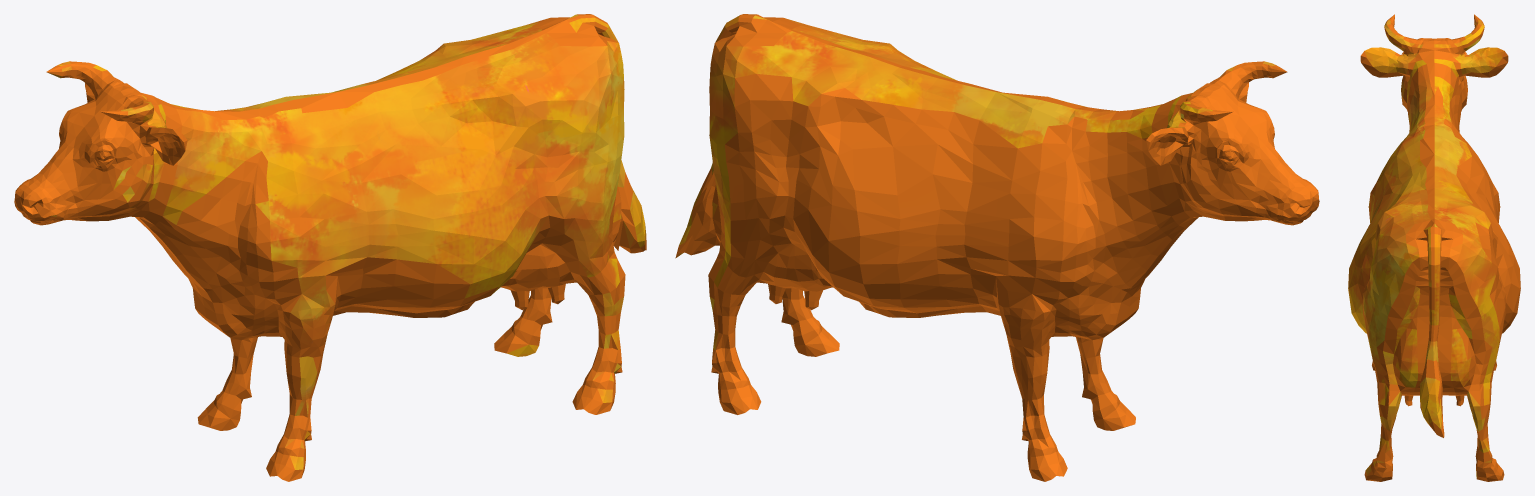
File: texture_cow.obj
The picture shows the model from 3 angles, left to right: view 1: azimuth 30°, elevation 25°; view 2: azimuth 150°, elevation 25°; view 3: azimuth 270°, elevation 25°; orthographic projection. The views are drawn at different scales.
Visible parts, largest first — view 1: cow; view 2: cow; view 3: cow.
Boxes of the visible parts, <box> form: cow: <box>14,14,646,481</box>; cow: <box>675,14,1319,481</box>; cow: <box>1348,14,1520,481</box>.
Size of the model in its own units: 10.44 by 6.4 by 3.4.
1 material, 1 textured.
